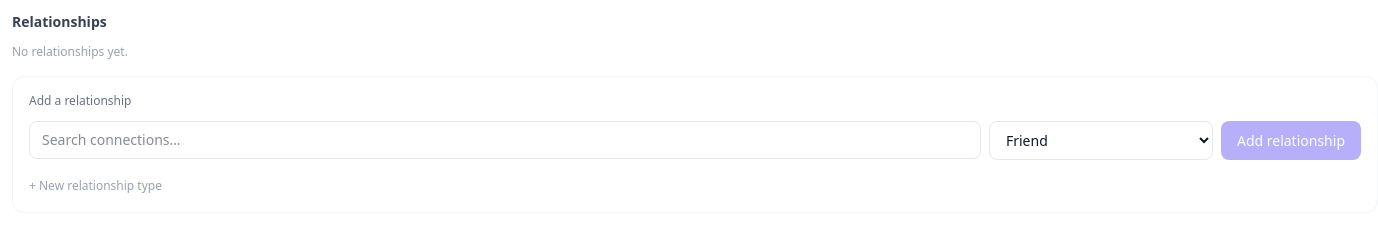
ConnectionSearch — selection › clearing the input disables the Add button
Type "jor" into the field labelled "Search connections…". click: (505, 140)
box: [29,121,981,159]
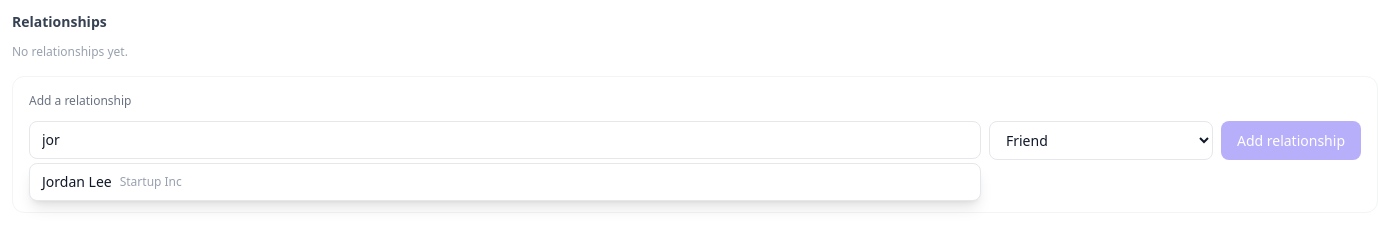
Click the option "Jordan Lee Startup Inc". click: (112, 182)
box: [42,172,182,191]
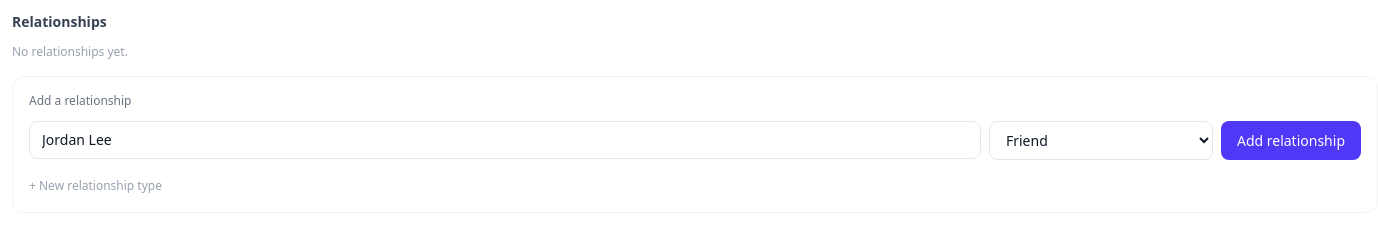
Clear the field named "Search connections". click: (505, 140)
box: [29,121,981,159]
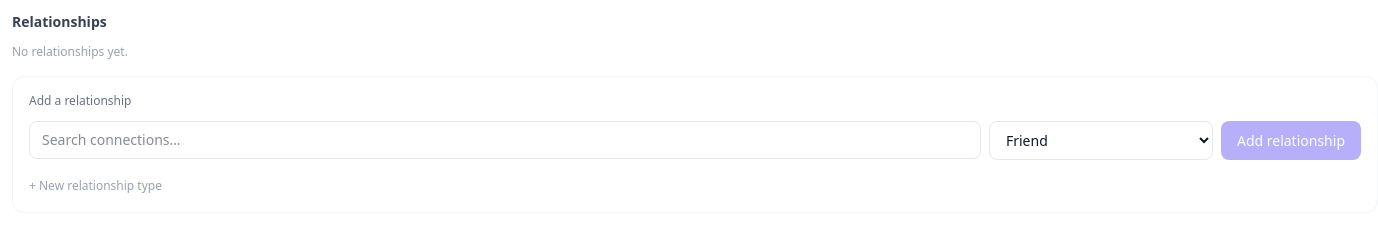
Result: the button "Add relationship" is disabled at [1221,121,1361,160]
